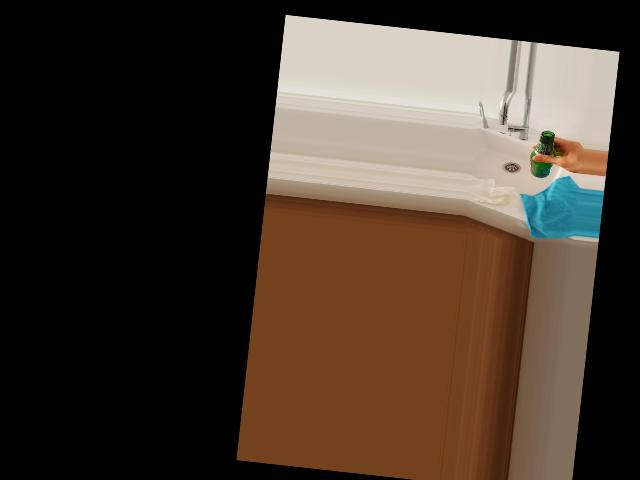beer: (527, 129, 558, 179)
